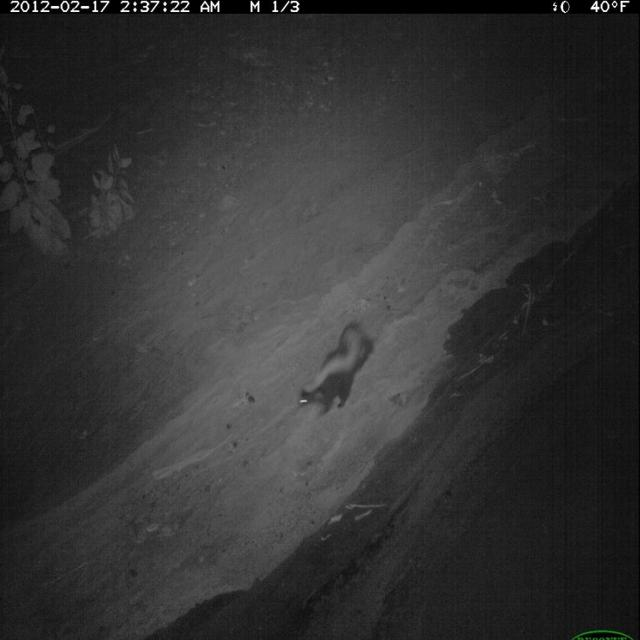skunk: (298, 317, 377, 422)
